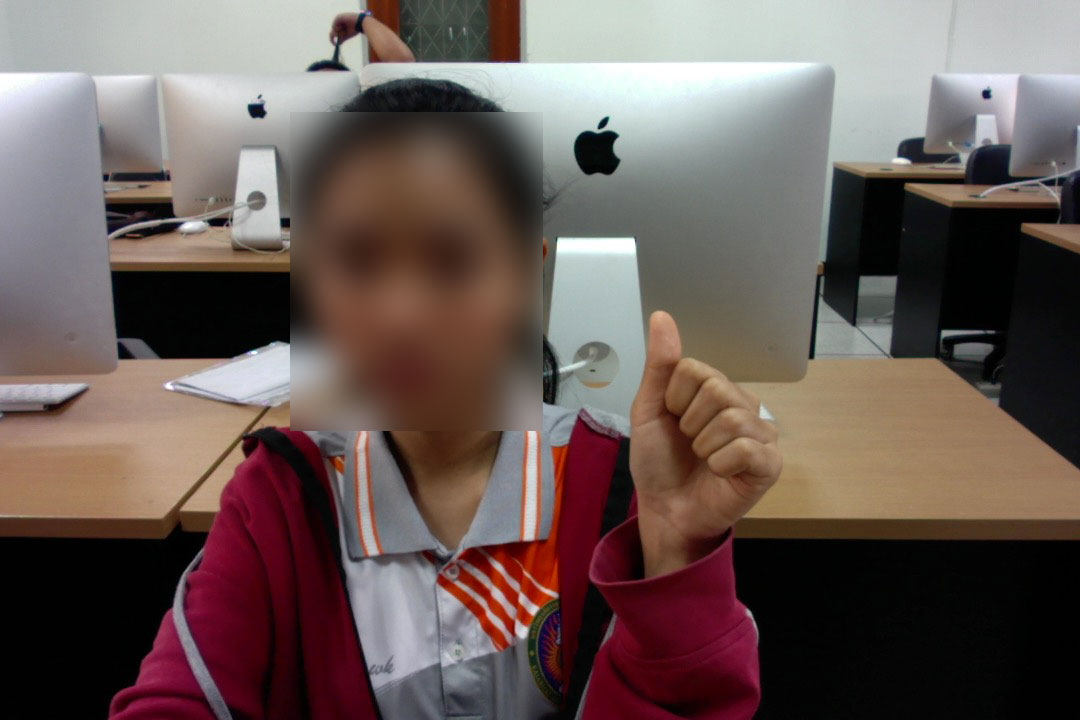or: (618, 300, 790, 570)
